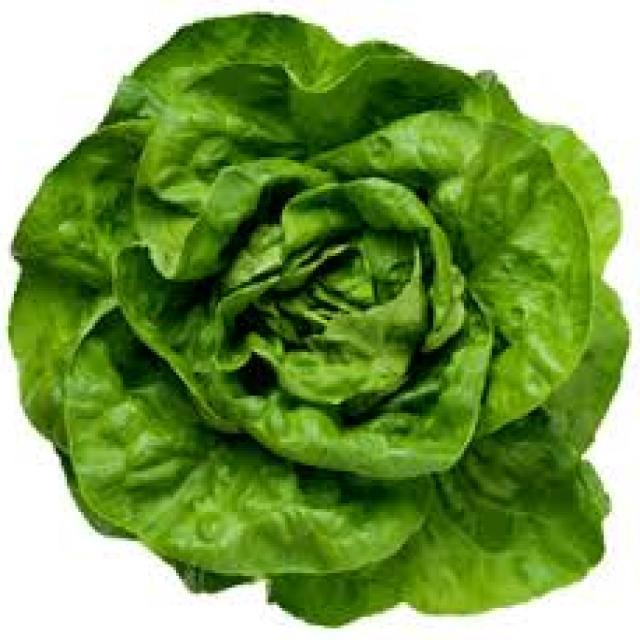Lettuce: (4, 6, 639, 632)
